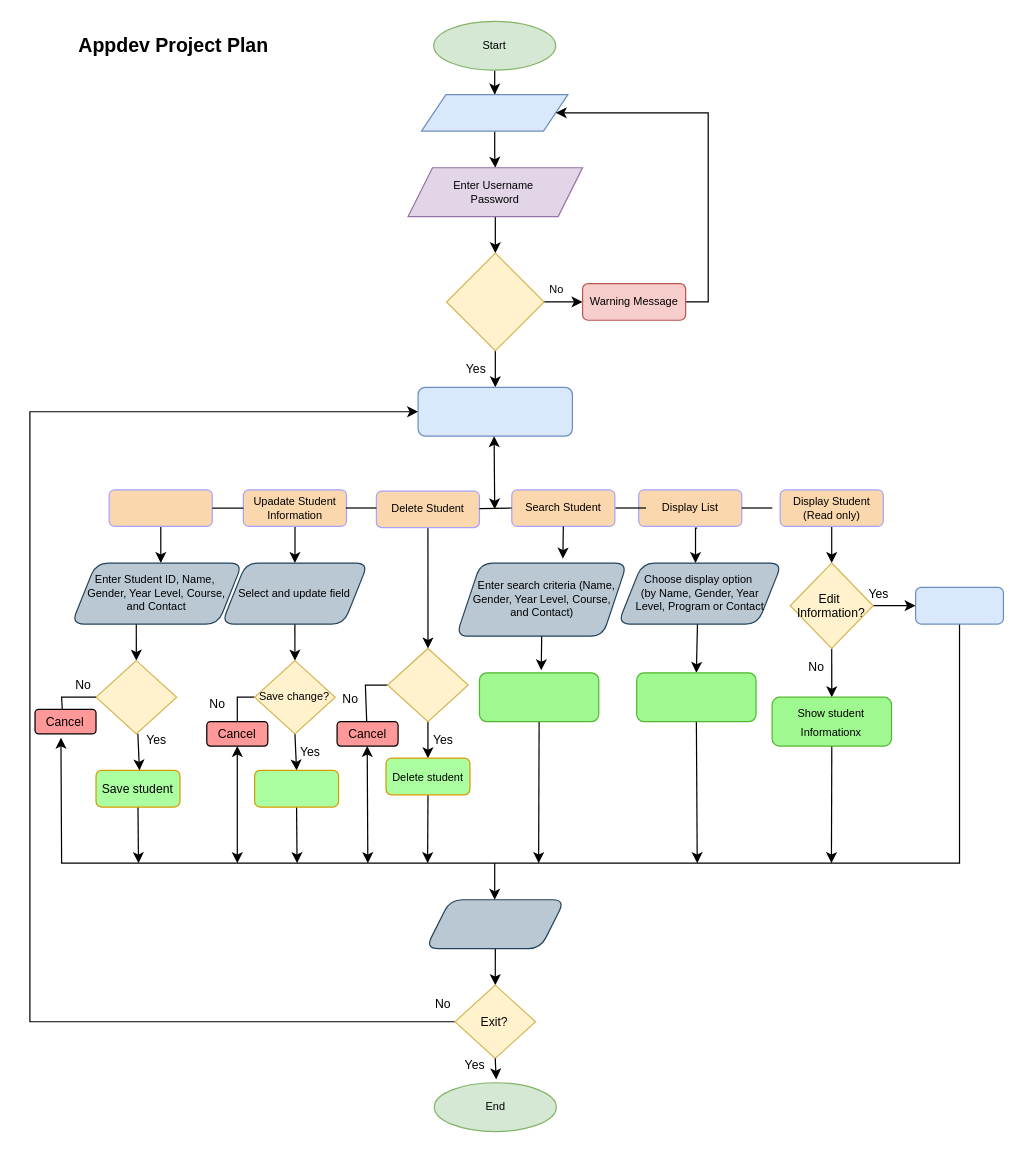
The diagram is 1025 pixels wide and 1153 high, and some of its shapes have lost their labels. The shapes that lost their labels are listed below. From the top down, each one's box as (x1, y1, x2, y2) in pixels, then its label:
(420, 93, 568, 131): Login/Signup
(445, 252, 544, 351): Valid Username and password?
(417, 386, 572, 436): Display Dashboard
(108, 489, 212, 526): Insert Student Information
(914, 586, 1003, 624): Update student information
(95, 659, 177, 734): Save student?
(386, 647, 468, 722): Comfirm delete?
(478, 672, 599, 722): Display matching srudend(s)
(635, 672, 756, 722): Show student list
(253, 769, 339, 807): Update save
(425, 899, 565, 949): Choose Done/Exit
